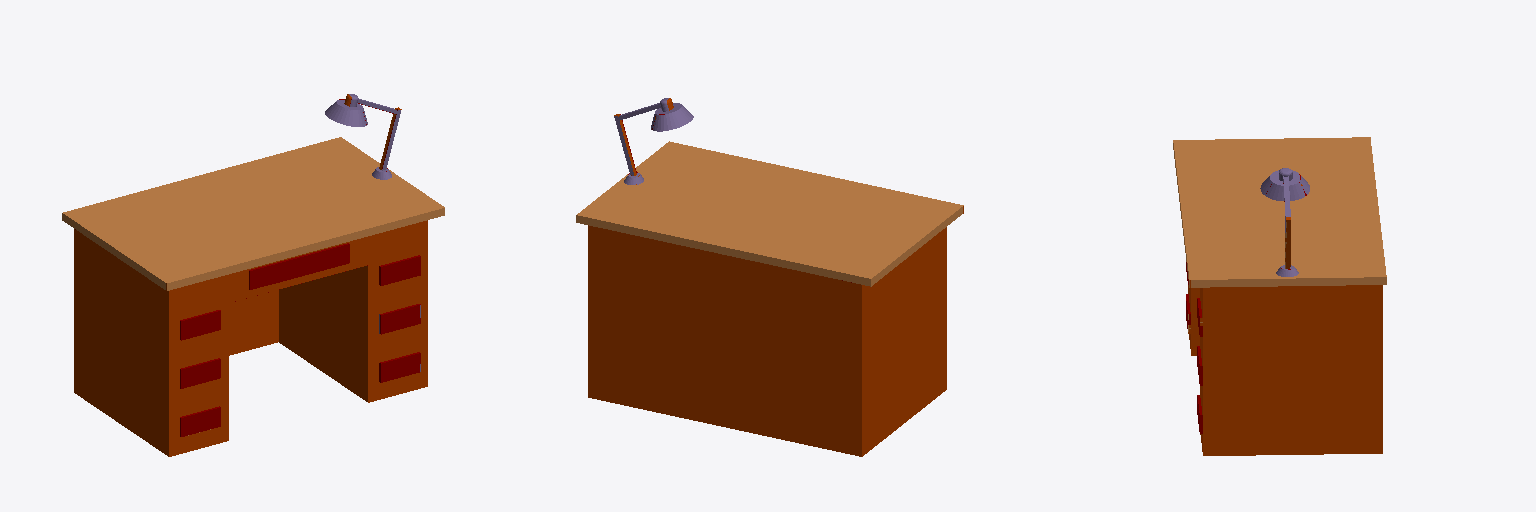
3 views of the same model, side by side, from view 1: azimuth 30°, elevation 25°; view 2: azimuth 150°, elevation 25°; view 3: azimuth 270°, elevation 25° (orthographic).
Visible parts, largest first — view 1: Cube.026_Cube.011; view 2: Cube.026_Cube.011; view 3: Cube.026_Cube.011.
Part boxes in pixels (x1,y1,x2,y2): Cube.026_Cube.011: (62, 94, 444, 456); Cube.026_Cube.011: (576, 98, 963, 456); Cube.026_Cube.011: (1173, 137, 1386, 455).
Size of the model in its own units: 13.85 by 12.04 by 8.63.
1 materials, 1 textured.